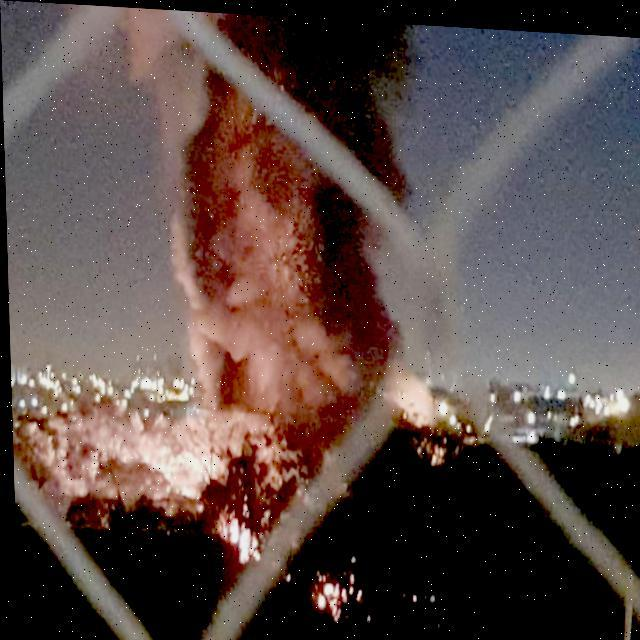Fire: (134, 438, 221, 502), (208, 508, 255, 562), (310, 575, 344, 612)
